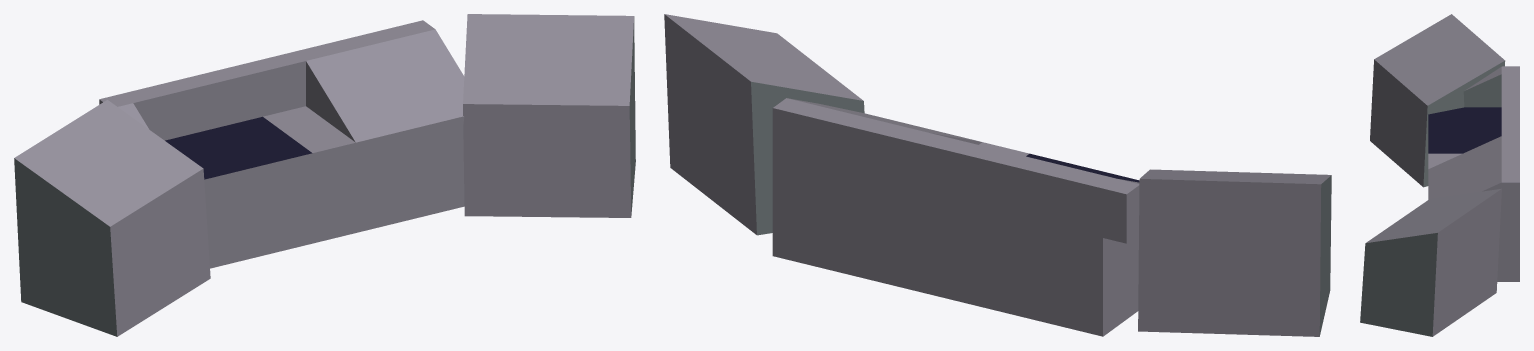
File: tempconsole.gltf
3 views of the same model, side by side, from view 1: azimuth 30°, elevation 25°; view 2: azimuth 150°, elevation 25°; view 3: azimuth 270°, elevation 25° (orthographic). The views are drawn at different scales.
Parts seen in each view (by area): view 1: plane (×2), cuboid; view 2: cuboid, plane (×2); view 3: plane (×2), cuboid.
Part boxes in pixels (<box>): plane (×2): <box>14,14,635,336</box>; cuboid: <box>99,20,464,268</box>; cuboid: <box>772,98,1139,336</box>; plane (×2): <box>664,14,1331,336</box>; plane (×2): <box>1360,14,1505,336</box>; cuboid: <box>1428,66,1519,281</box>.
Bounding box in the file's own units: 0.8837 × 0.207 × 0.2729.
3 materials, 3 textured.
